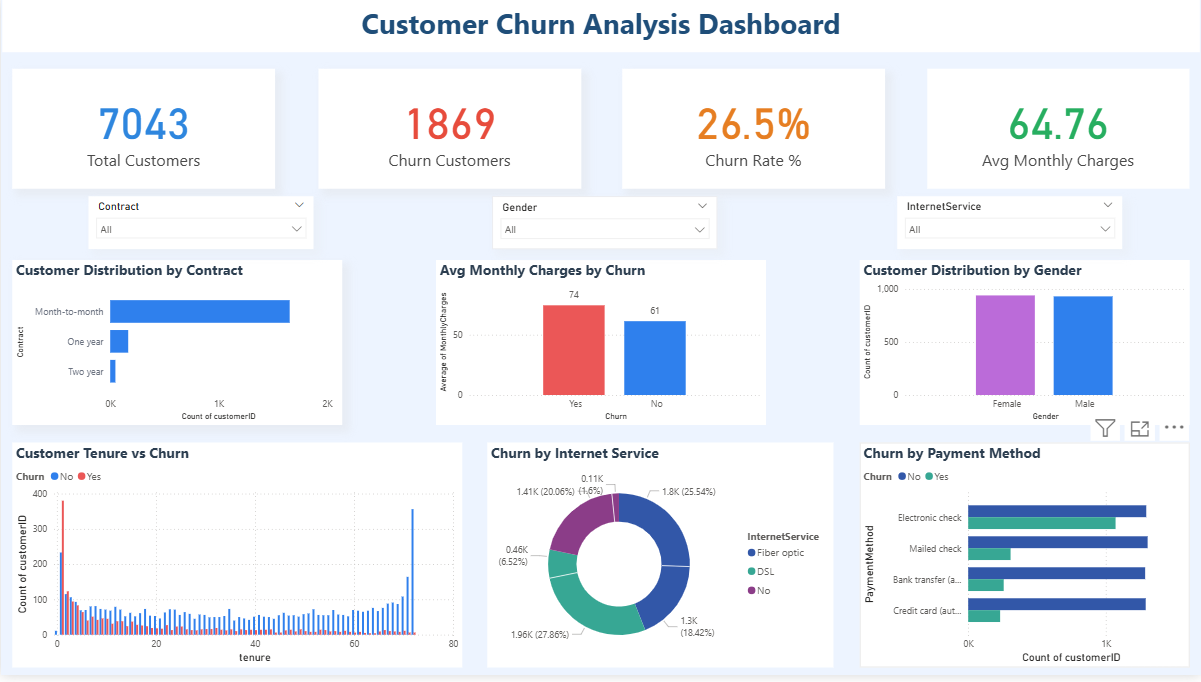

Layout of this report page (visuals, bound fields, positions):
{"tool":"powerbi","page":{"name":"Overview","canvas":[1600,900],"ordinal":0},"visuals":[{"type":"card","fields":{"Values":["telco_churn.Churn Customers"]},"box":[422.6,92.3,350,160],"z":0},{"type":"card","fields":{"Values":["telco_churn.Total Customers"]},"box":[15.4,92.3,350.8,160],"z":1000},{"type":"card","fields":{"Values":["telco_churn.Churn Rate %"]},"box":[829,92.3,350,160],"z":2000},{"type":"clusteredBarChart","title":"Customer Distribution by Contract","fields":{"Category":["telco_churn.Contract"],"Y":["CountNonNull(telco_churn.customerID)"]},"box":[15.7,346.7,440,220],"z":3000},{"type":"clusteredColumnChart","title":"Customer Distribution by Gender","fields":{"Category":["telco_churn.gender"],"Y":["CountNonNull(telco_churn.customerID)"]},"box":[1145,346.7,440,220],"z":4000},{"type":"clusteredColumnChart","title":"Avg Monthly Charges by Churn","fields":{"Category":["telco_churn.Churn"],"Y":["Avg(telco_churn.MonthlyCharges)"]},"box":[580.4,346.7,440,220],"z":5000},{"type":"clusteredColumnChart","title":"Customer Tenure vs Churn","fields":{"Category":["telco_churn.tenure"],"Y":["CountNonNull(telco_churn.customerID)"],"Series":["telco_churn.Churn"]},"box":[15,590,600,300],"z":6000},{"type":"textbox","box":[1.5,0,1596.9,69.2],"z":7000},{"type":"slicer","fields":{"Values":["telco_churn.Contract"]},"box":[116.7,261.4,300,70],"z":8000},{"type":"slicer","fields":{"Values":["telco_churn.gender"]},"box":[655.8,261.4,300,70],"z":9000},{"type":"slicer","fields":{"Values":["telco_churn.InternetService"]},"box":[1195,261.4,300,70],"z":10000},{"type":"card","fields":{"Values":["telco_churn.Avg Monthly Charges"]},"box":[1235.4,92.3,349.2,160],"z":11000},{"type":"donutChart","title":"Churn by Internet Service","fields":{"Category":["telco_churn.InternetService"],"Y":["CountNonNull(telco_churn.customerID)"],"Series":["telco_churn.Churn"]},"box":[649.2,590,461.7,300],"z":12000},{"type":"clusteredBarChart","title":"Churn by Payment Method","fields":{"Category":["telco_churn.PaymentMethod"],"Y":["CountNonNull(telco_churn.customerID)"],"Series":["telco_churn.Churn"]},"box":[1145,590,440,300],"z":13000}]}

Visuals, with their boxes in screenshot pixels (x1, y1, x2, y2), scaled from the page's 1600x900 canvas onto the 1201x682 screenshot:
card - telco_churn.Churn Customers: bbox(317, 70, 580, 191)
card - telco_churn.Total Customers: bbox(12, 70, 275, 191)
card - telco_churn.Churn Rate %: bbox(622, 70, 885, 191)
"Customer Distribution by Contract" clusteredBarChart: bbox(12, 263, 342, 429)
"Customer Distribution by Gender" clusteredColumnChart: bbox(859, 263, 1190, 429)
"Avg Monthly Charges by Churn" clusteredColumnChart: bbox(436, 263, 766, 429)
"Customer Tenure vs Churn" clusteredColumnChart: bbox(11, 447, 462, 674)
textbox: bbox(1, 0, 1200, 52)
slicer - telco_churn.Contract: bbox(88, 198, 313, 251)
slicer - telco_churn.gender: bbox(492, 198, 717, 251)
slicer - telco_churn.InternetService: bbox(897, 198, 1122, 251)
card - telco_churn.Avg Monthly Charges: bbox(927, 70, 1189, 191)
"Churn by Internet Service" donutChart: bbox(487, 447, 834, 674)
"Churn by Payment Method" clusteredBarChart: bbox(859, 447, 1190, 674)
